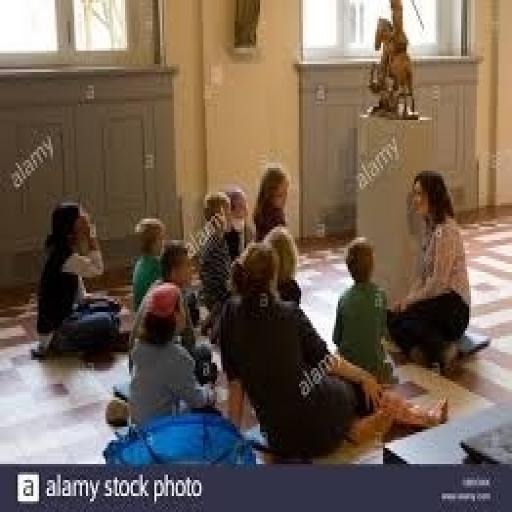sitting: (29, 160, 473, 461), (213, 237, 449, 459), (385, 168, 473, 371), (103, 280, 221, 429), (29, 197, 123, 360)
